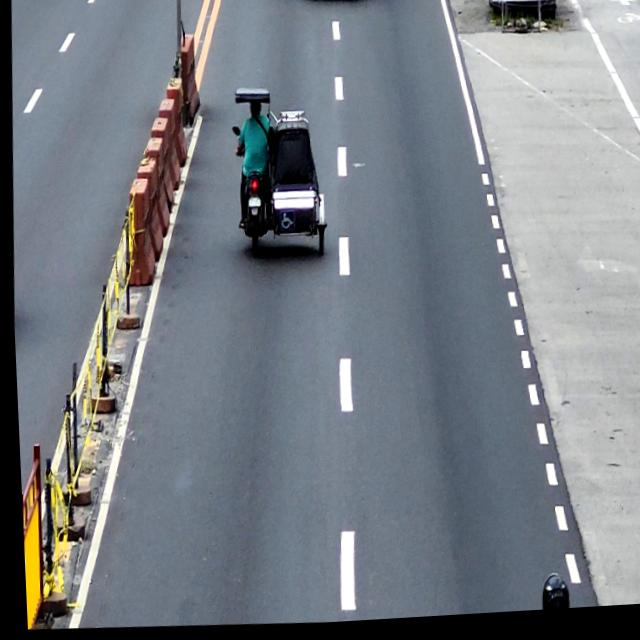License-Plate: (245, 199, 259, 211)
Tricycle: (224, 84, 330, 264)
